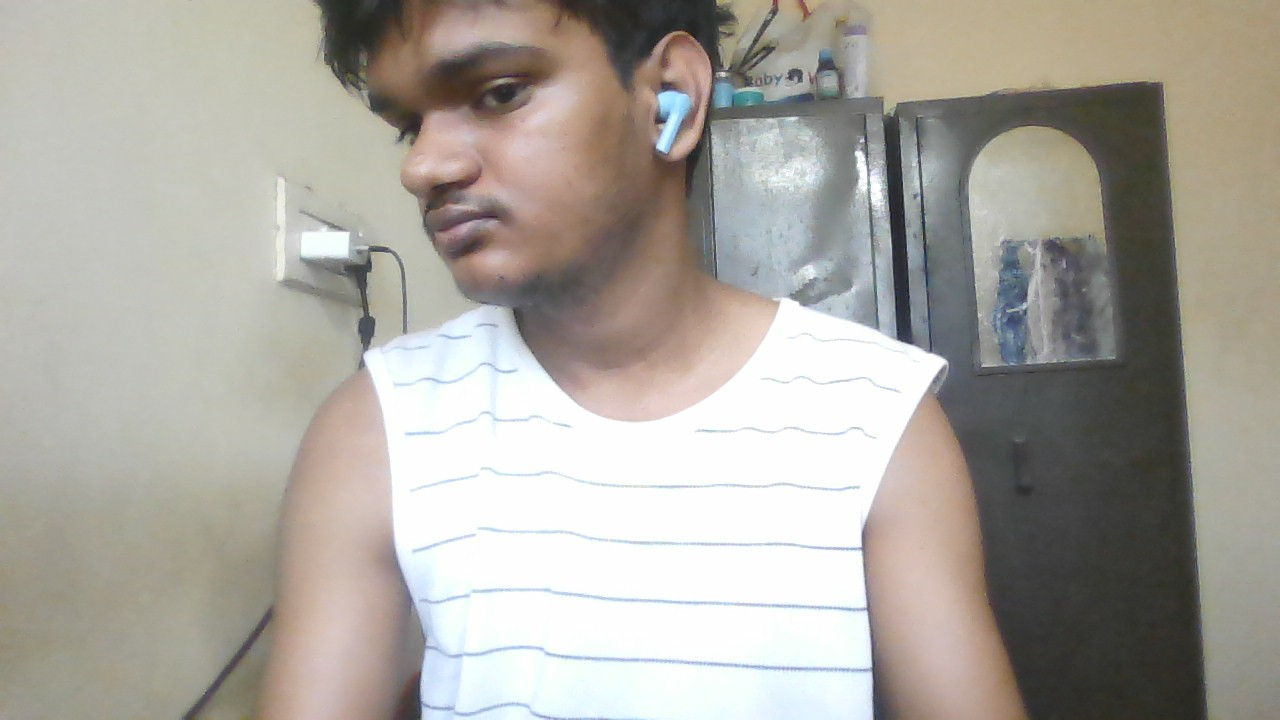earphone: (659, 88, 698, 151)
